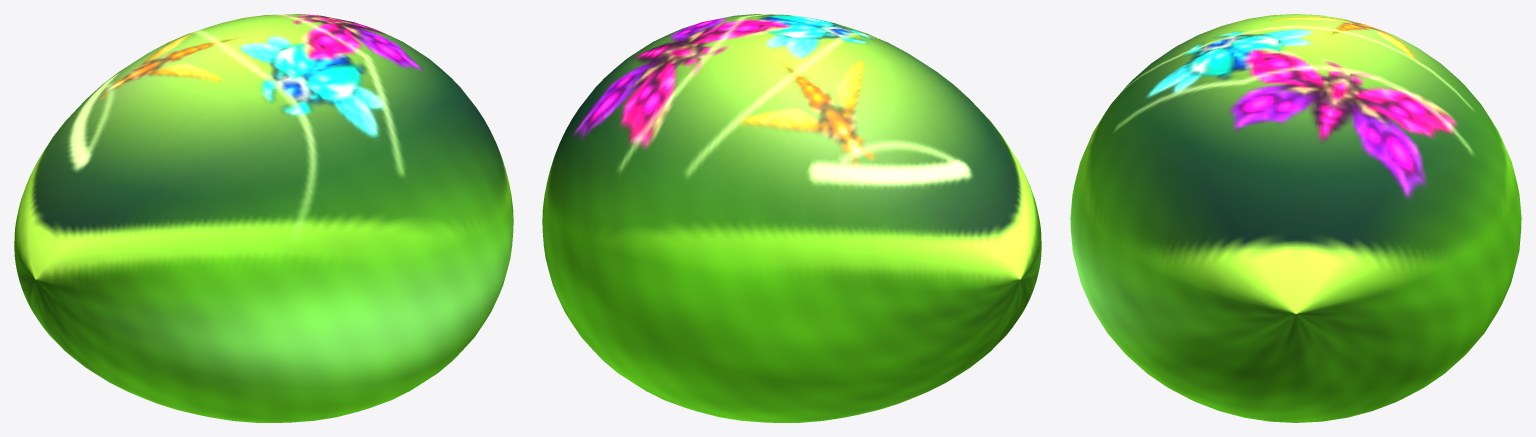
Rendered from vexar-egg-mixed.glb.
3 renders of one model, left to right at view 1: azimuth 30°, elevation 25°; view 2: azimuth 150°, elevation 25°; view 3: azimuth 270°, elevation 25°, orthographic.
Visible parts, largest first — view 1: Vexar_Egg; view 2: Vexar_Egg; view 3: Vexar_Egg.
Boxes of the visible parts, x1=… form: Vexar_Egg: x1=14, y1=14, x2=513, y2=422; Vexar_Egg: x1=542, y1=14, x2=1041, y2=422; Vexar_Egg: x1=1070, y1=14, x2=1521, y2=422.
Bounding box in the file's own units: 1.02 × 0.7859 × 0.9138.
Materials: 1 (1 with a texture image).
